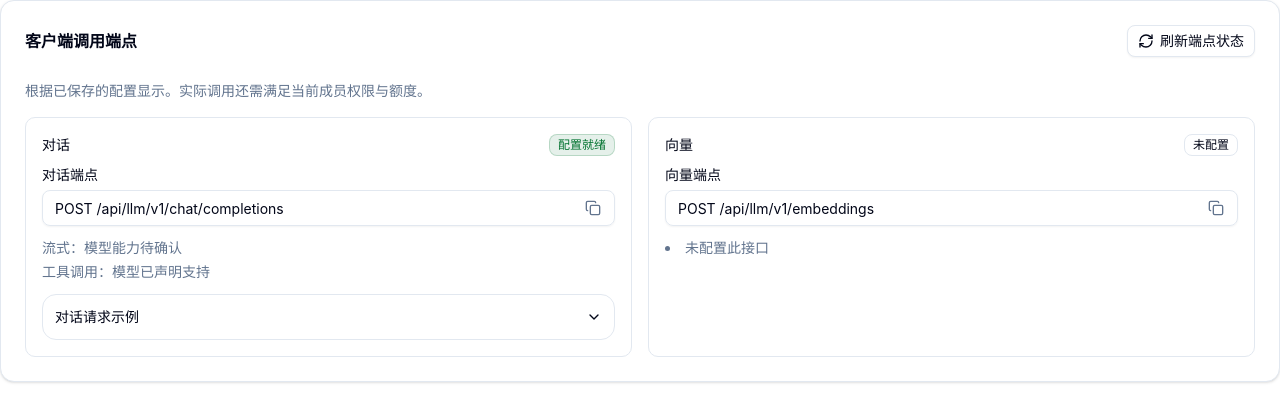
Scenario: removes cached endpoint details when authorization is lost on refresh
Expected: the text "配置就绪" is shown, top-left (549, 134), bottom-right (615, 156)
Click the button "刷新端点状态" at (1191, 41), box top-left (1127, 25), bottom-right (1255, 57)
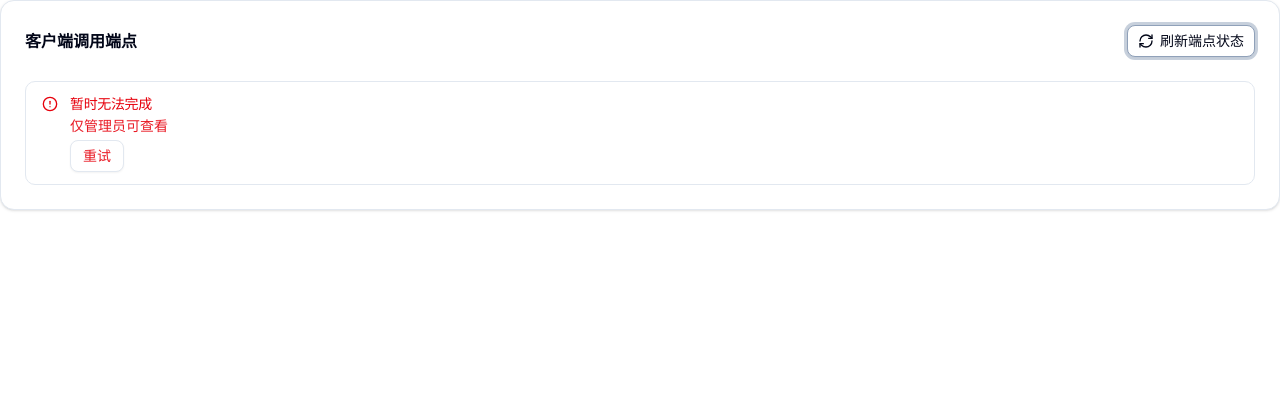
Expected: the text "仅管理员可查看" is shown, top-left (70, 116), bottom-right (168, 136)
Expected: the text "配置就绪" is gone
